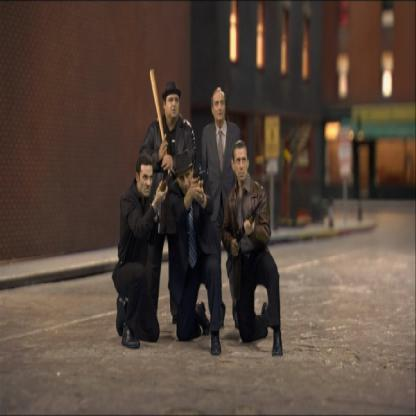Gun: (224, 198, 263, 277), (150, 157, 172, 213), (190, 158, 202, 184)
